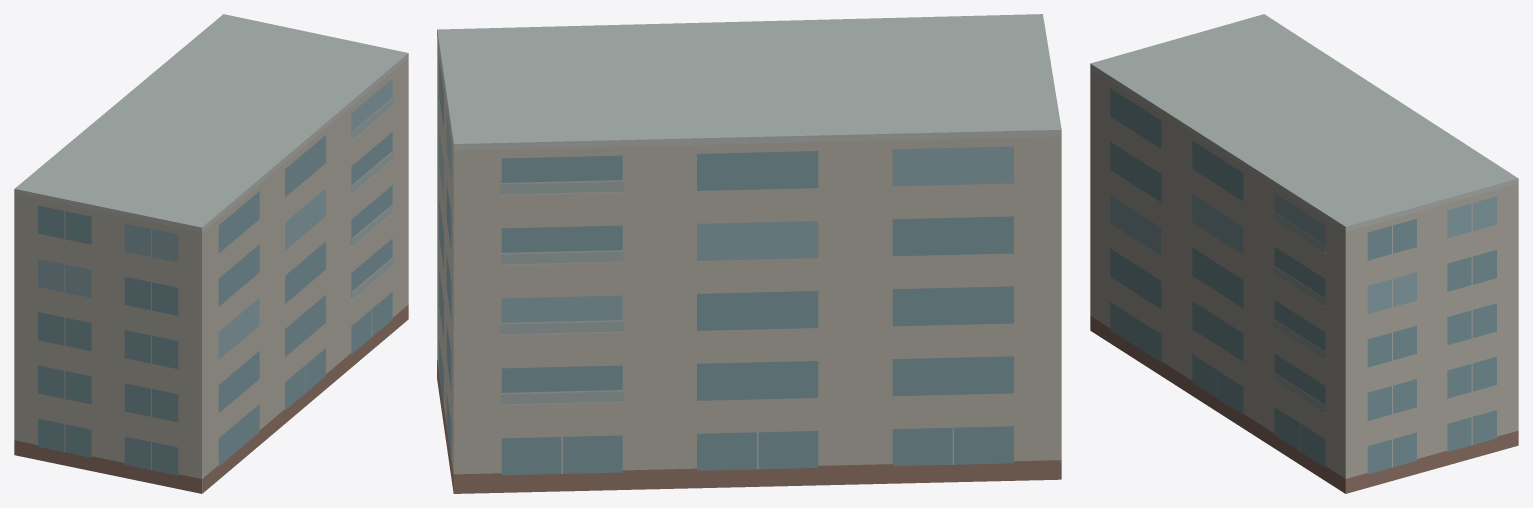
File: survey-upis-33044251.glb
3 renders of one model, left to right at view 1: azimuth 30°, elevation 25°; view 2: azimuth 150°, elevation 25°; view 3: azimuth 270°, elevation 25°, orthographic. The views are drawn at different scales.
Visible parts, largest first — view 1: survey-upis-33044251.tmp; view 2: survey-upis-33044251.tmp; view 3: survey-upis-33044251.tmp.
Part boxes in pixels (bbox=[...]): survey-upis-33044251.tmp: bbox=[14, 14, 408, 493]; survey-upis-33044251.tmp: bbox=[437, 14, 1061, 493]; survey-upis-33044251.tmp: bbox=[1090, 14, 1518, 493].
Size of the model in its own units: 21.79 by 12.75 by 18.54.
